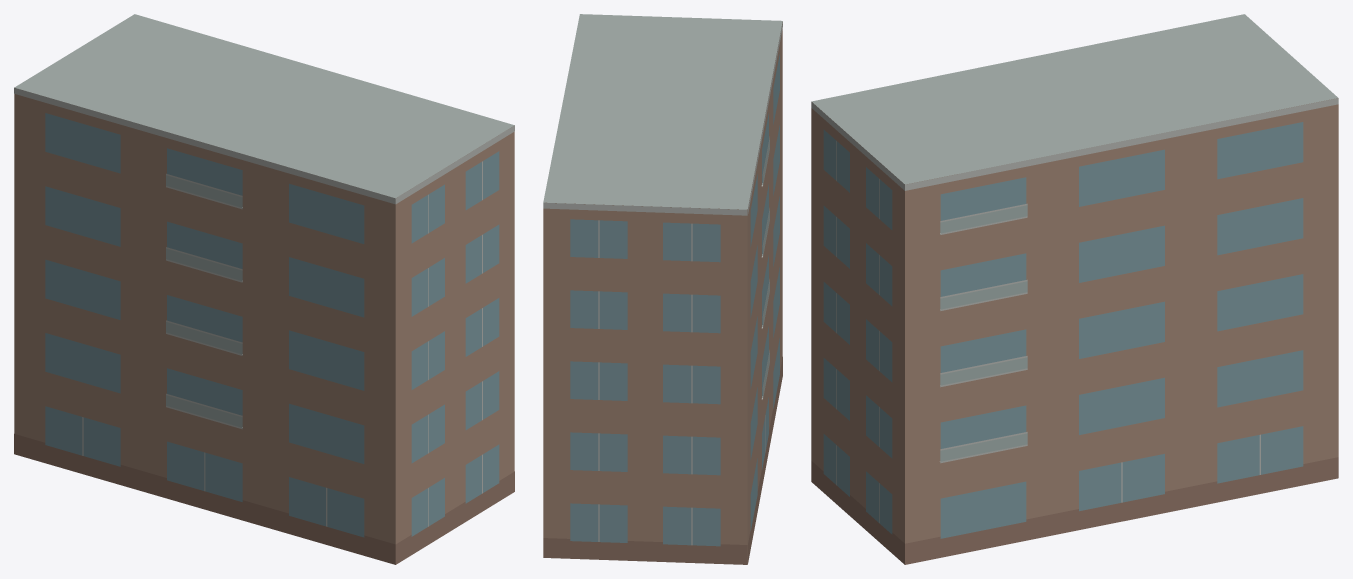
File: survey-upis-33043709.glb
3 views of the same model, side by side, from view 1: azimuth 30°, elevation 25°; view 2: azimuth 150°, elevation 25°; view 3: azimuth 270°, elevation 25° (orthographic). The views are drawn at different scales.
Visible parts, largest first — view 1: survey-upis-33043709.tmp; view 2: survey-upis-33043709.tmp; view 3: survey-upis-33043709.tmp.
Boxes of the visible parts, x1,y1,x2,y2 form: survey-upis-33043709.tmp: [14, 14, 514, 564]; survey-upis-33043709.tmp: [543, 14, 782, 564]; survey-upis-33043709.tmp: [811, 14, 1338, 564].
Size of the model in its own units: 14.05 by 14.6 by 18.35.
